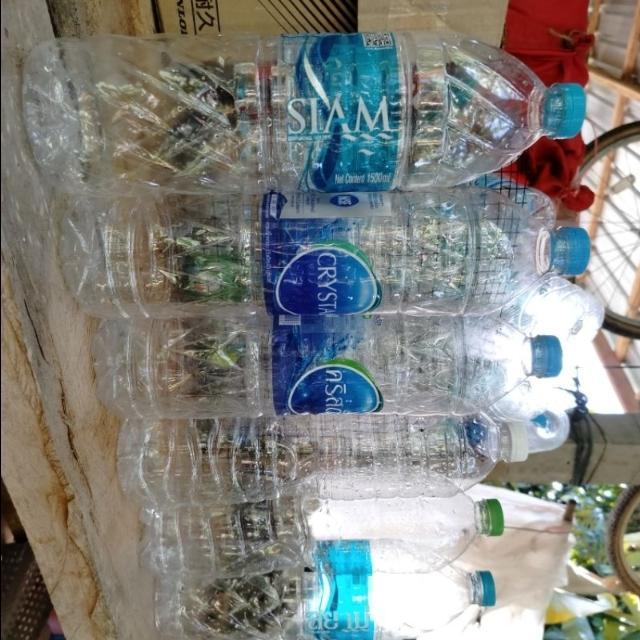PET Bottle: (17, 0, 599, 199), (48, 185, 602, 309), (81, 292, 579, 412), (109, 411, 581, 503), (137, 488, 543, 581), (140, 562, 517, 640)
